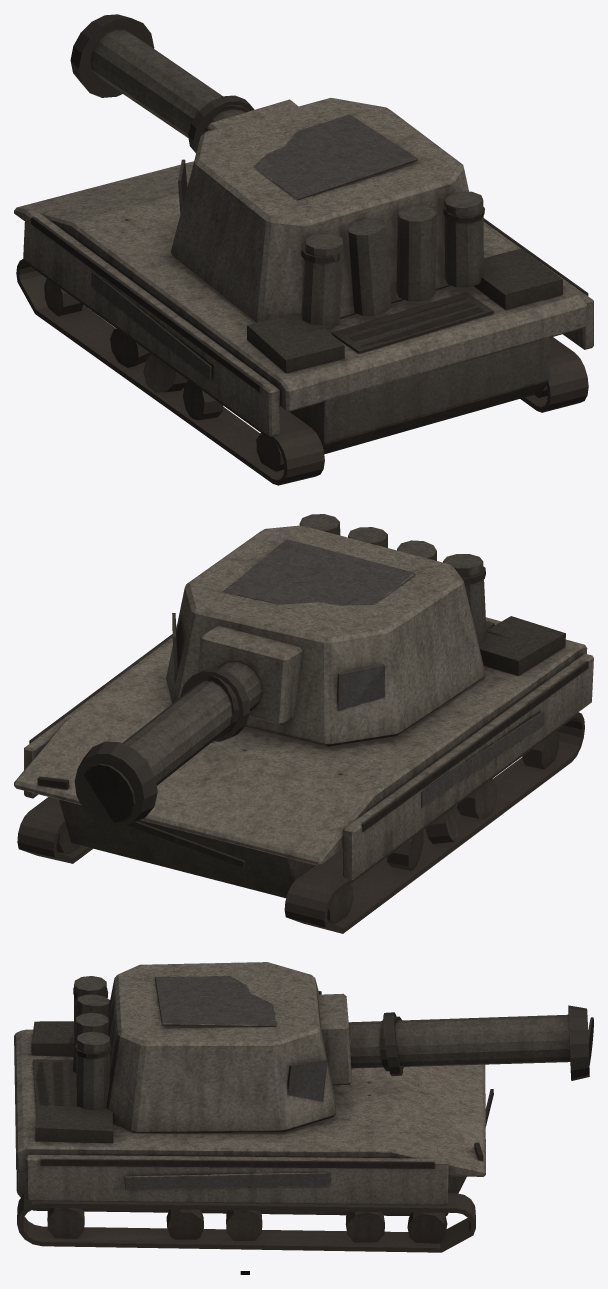
The model's file is ord_luminary_wreck.fbx.
3 renders of one model, top to bottom at view 1: azimuth 30°, elevation 25°; view 2: azimuth 150°, elevation 25°; view 3: azimuth 270°, elevation 25°, orthographic. The views are drawn at different scales.
Parts seen in each view (by area): view 1: base_bar, turret_bar, trackL_bar, barrel_bar, trackR_bar; view 2: base_bar, turret_bar, barrel_bar, trackL_bar, trackR_bar; view 3: base_bar, turret_bar, trackR_bar, barrel_bar.
Boxes of the visible parts, <box> form: base_bar: <box>14,161,593,454</box>; turret_bar: <box>171,98,484,329</box>; trackL_bar: <box>16,259,324,485</box>; barrel_bar: <box>70,14,298,152</box>; trackR_bar: <box>520,337,588,412</box>; base_bar: <box>14,616,593,898</box>; turret_bar: <box>166,514,486,746</box>; barrel_bar: <box>74,625,302,826</box>; trackL_bar: <box>284,712,584,933</box>; trackR_bar: <box>17,797,92,863</box>; base_bar: <box>14,1021,493,1215</box>; turret_bar: <box>73,962,335,1133</box>; trackR_bar: <box>17,1193,475,1252</box>; barrel_bar: <box>318,993,593,1085</box>.
Size of the model in its own units: 707 by 639 by 1212.
Materials: 2 (2 with a texture image).
